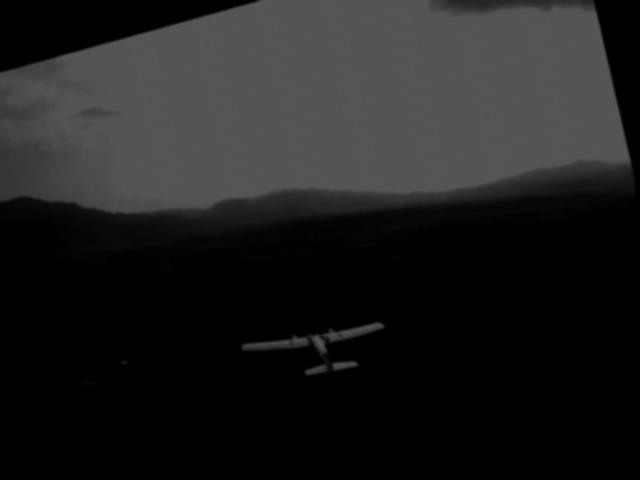hedef: (229, 289, 403, 407)
